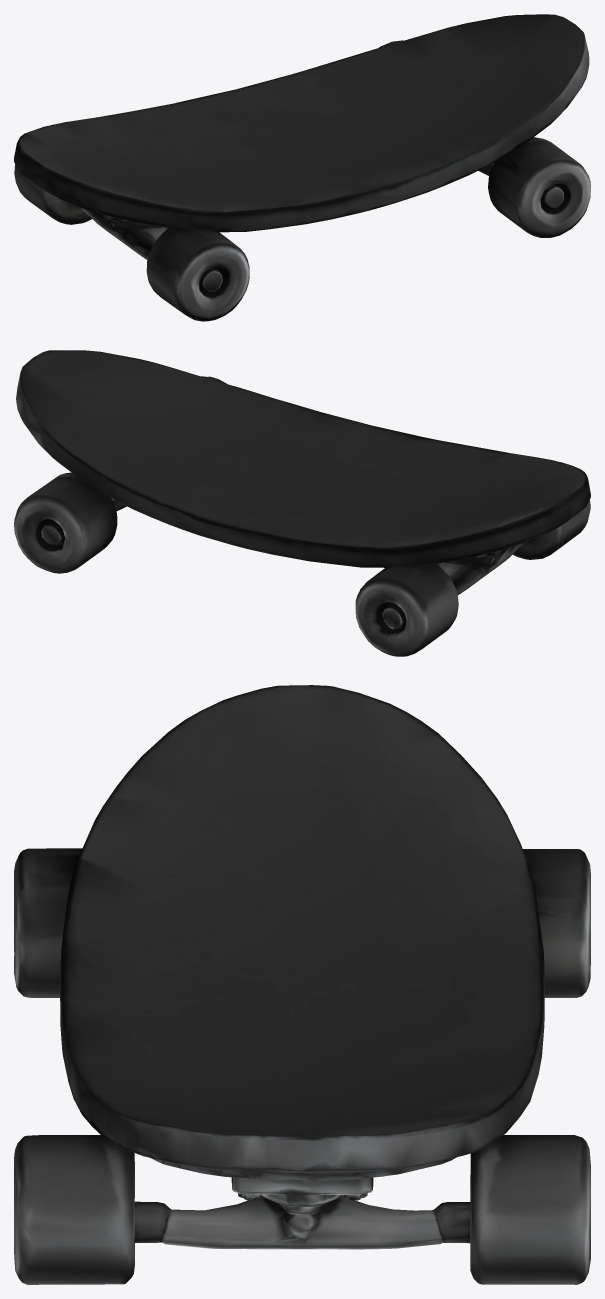
Rendered from CCG_Deck_ShadowRuffCombat_web.glb.
The picture shows the model from 3 angles, top to bottom: view 1: azimuth 30°, elevation 25°; view 2: azimuth 150°, elevation 25°; view 3: azimuth 270°, elevation 25°; orthographic projection. The views are drawn at different scales.
Visible parts, largest first — view 1: SM_Deck_ShadowRuffCombat; view 2: SM_Deck_ShadowRuffCombat; view 3: SM_Deck_ShadowRuffCombat.
Part boxes in pixels (x1,y1,x2,y2): SM_Deck_ShadowRuffCombat: [14, 14, 590, 321]; SM_Deck_ShadowRuffCombat: [14, 350, 590, 656]; SM_Deck_ShadowRuffCombat: [14, 685, 590, 1284].
Bounding box in the file's own units: 0.8198 × 0.1861 × 0.4317.
1 material, 1 textured.
